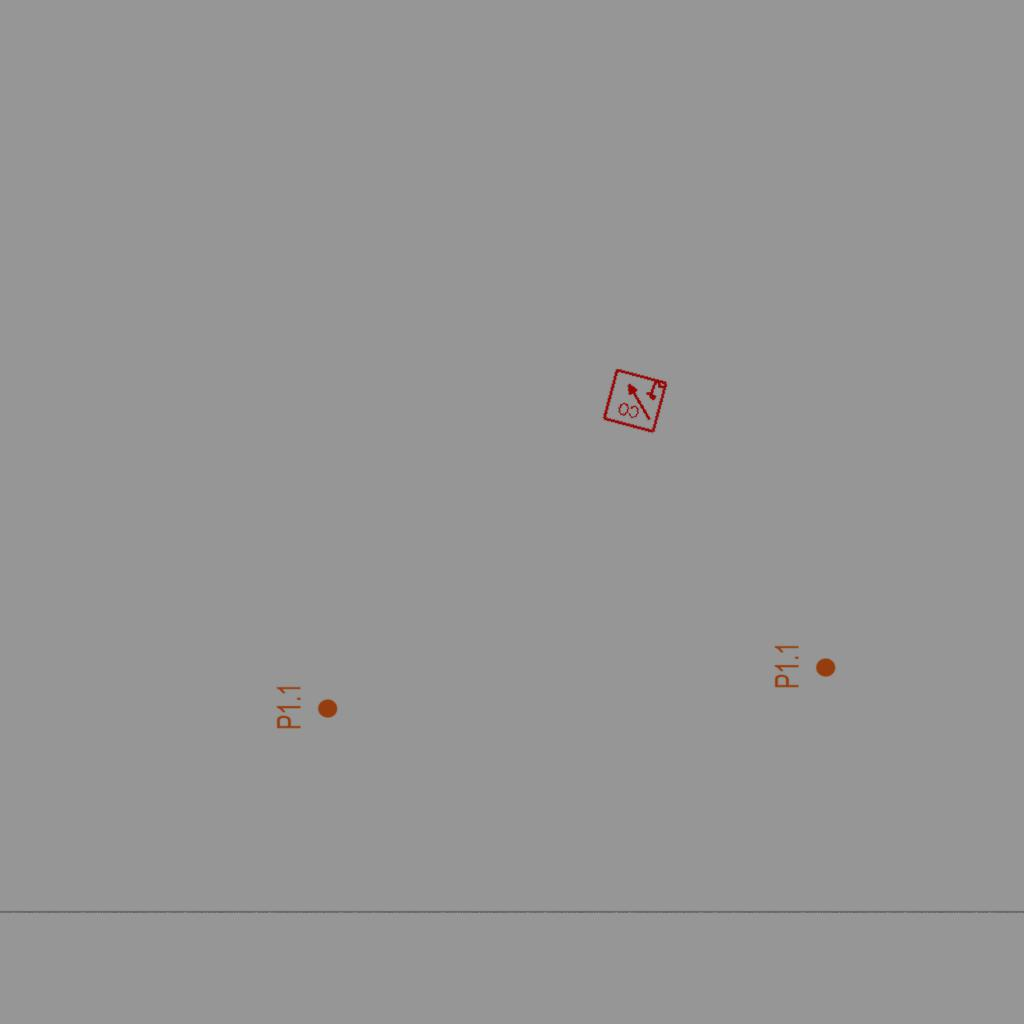Downlight_LED_Einbauleuchten_Flur: (773, 643, 837, 689), (275, 684, 339, 730)
ROA_Rauchmelder_optisch_mit_Signalgeber_(Sockelsirene): (600, 365, 670, 435)
